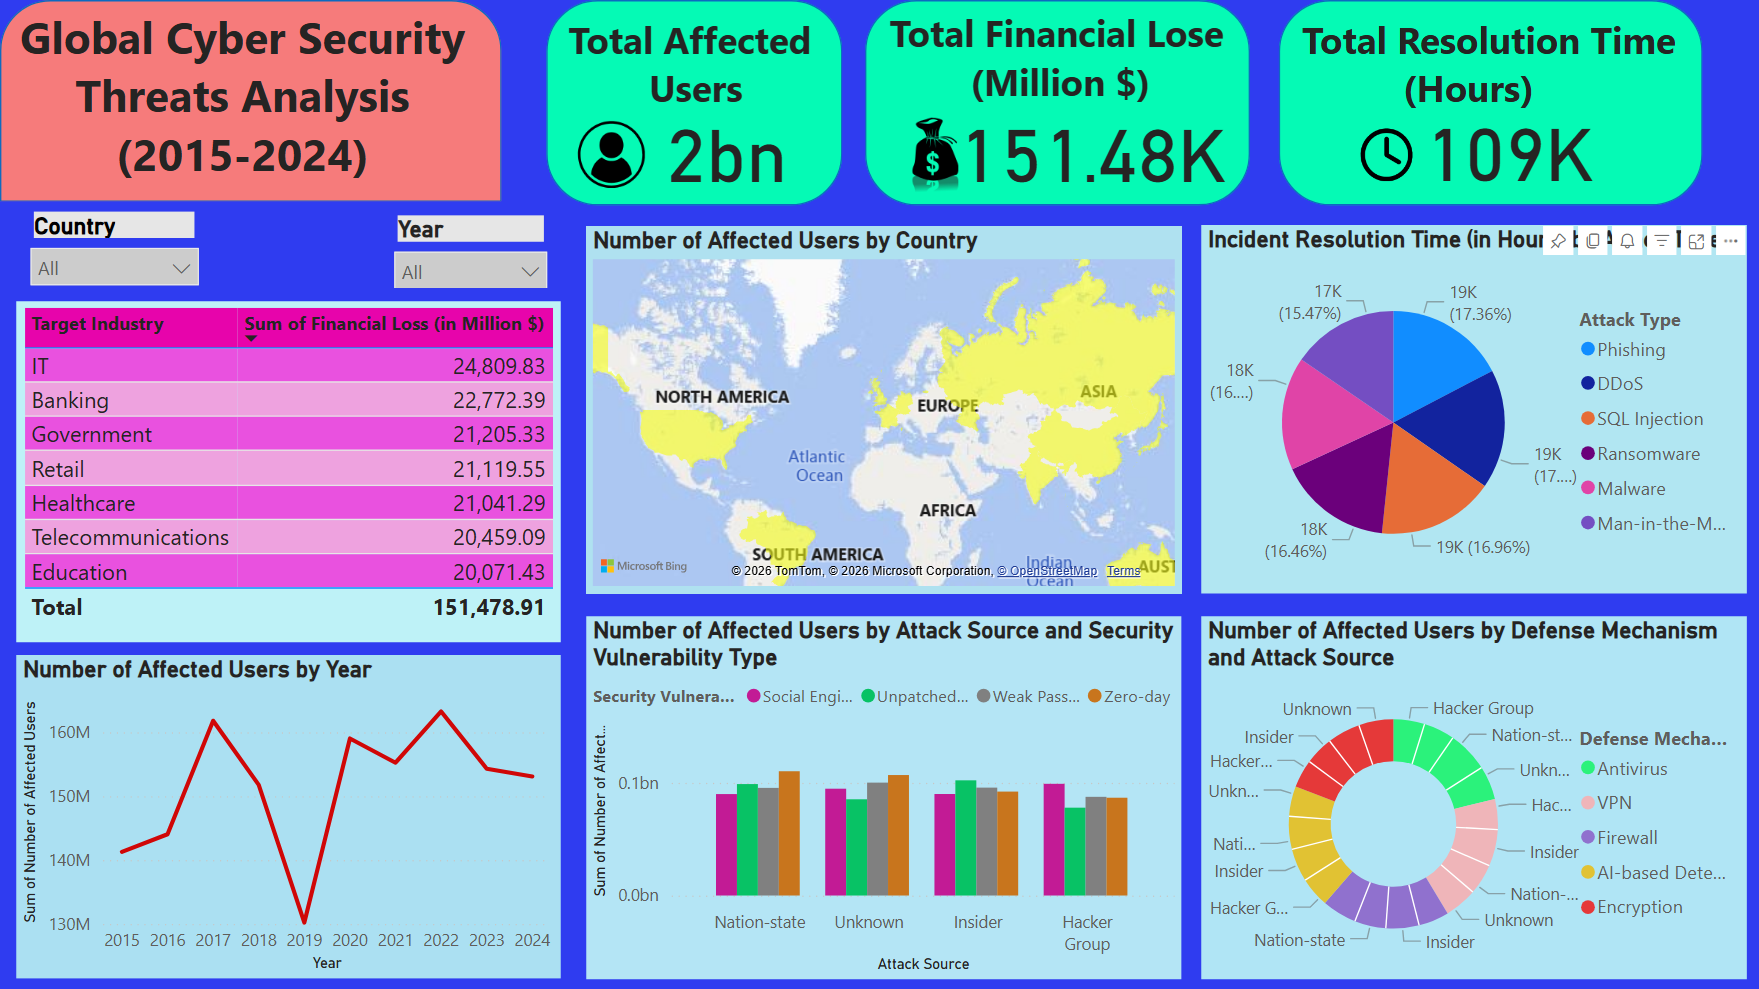

The dashboard page shown, as its layout file describes it:
{"tool":"powerbi","page":{"name":"Page 1","canvas":[1280,720],"ordinal":0},"visuals":[{"type":"shape","box":[0,0,364.8,146.7],"z":500},{"type":"shape","box":[930.3,0,308.3,149.4],"z":1000},{"type":"shape","box":[628.7,0,280,149.4],"z":2000},{"type":"shape","box":[397.1,0,215.4,149.4],"z":3000},{"type":"tableEx","fields":{"Values":["Global_Cybersecurity_Threats_2015-2024.Target Industry","Sum(Global_Cybersecurity_Threats_2015-2024.Financial Loss (in Million $))"]},"box":[12.1,219.4,395.8,247.7],"z":4000},{"type":"clusteredColumnChart","title":"Number of Affected Users by Attack Source and Security Vulnerability Type","fields":{"Category":["Global_Cybersecurity_Threats_2015-2024.Attack Source"],"Series":["Global_Cybersecurity_Threats_2015-2024.Security Vulnerability Type"],"Y":["Sum(Global_Cybersecurity_Threats_2015-2024.Number of Affected Users)"]},"box":[426.2,448.6,433.2,264.1],"z":5000},{"type":"pieChart","title":"Incident Resolution Time (in Hours) by Attack Type","fields":{"Y":["Sum(Global_Cybersecurity_Threats_2015-2024.Incident Resolution Time (in Hours))"],"Category":["Global_Cybersecurity_Threats_2015-2024.Attack Type"]},"box":[873.4,163.5,396.9,268.3],"z":6000},{"type":"donutChart","title":"Number of Affected Users by Defense Mechanism and Attack Source","fields":{"Category":["Global_Cybersecurity_Threats_2015-2024.Defense Mechanism Used"],"Series":["Global_Cybersecurity_Threats_2015-2024.Attack Source"],"Y":["Sum(Global_Cybersecurity_Threats_2015-2024.Number of Affected Users)"]},"box":[873.4,448.6,396.9,264.1],"z":7000},{"type":"filledMap","title":"Number of Affected Users by Country","fields":{"Category":["Global_Cybersecurity_Threats_2015-2024.Country"]},"box":[426.2,164.9,433.2,266.9],"z":8000},{"type":"cardVisual","fields":{"Data":["Sum(Global_Cybersecurity_Threats_2015-2024.Number of Affected Users)"]},"box":[467.1,41.7,206,133.3],"z":9000},{"type":"cardVisual","fields":{"Data":["Sum(Global_Cybersecurity_Threats_2015-2024.Financial Loss (in Million $))"]},"box":[679.9,41.7,239.6,134.6],"z":10000},{"type":"textbox","box":[0,0,352.7,140],"z":11000},{"type":"cardVisual","fields":{"Data":["Sum(Global_Cybersecurity_Threats_2015-2024.Incident Resolution Time (in Hours))"]},"box":[1018.7,41.9,234.8,132.8],"z":12000},{"type":"textbox","box":[407.9,5.4,195.2,80.8],"z":13000},{"type":"image","box":[407.9,80.8,72.7,63.3],"z":14000},{"type":"textbox","box":[642.2,1.3,278.7,80.8],"z":15000},{"type":"textbox","box":[941.8,5.6,296.2,85.2],"z":16000},{"type":"image","box":[648.9,79.4,61.9,67.3],"z":17000},{"type":"image","box":[982.4,82.4,51.7,60.1],"z":18000},{"type":"lineChart","title":"Number of Affected Users by Year","fields":{"Y":["Sum(Global_Cybersecurity_Threats_2015-2024.Number of Affected Users)"],"Category":["Global_Cybersecurity_Threats_2015-2024.Year"]},"box":[12.1,476.6,395.8,235.6],"z":19000},{"type":"slicer","fields":{"Values":["Global_Cybersecurity_Threats_2015-2024.Country"]},"box":[12.1,149.4,142.7,60.6],"z":20000},{"type":"slicer","fields":{"Values":["Global_Cybersecurity_Threats_2015-2024.Year"]},"box":[276,152.1,131.9,57.9],"z":20001}]}

Visuals, with their boxes in screenshot pixels (x1, y1, x2, y2), scaled from the page's 1280x720 canvas onto the 1759x989 screenshot:
shape: (0, 0, 501, 202)
shape: (1278, 0, 1702, 205)
shape: (864, 0, 1249, 205)
shape: (546, 0, 842, 205)
tableEx - Global_Cybersecurity_Threats_2015-2024.Target Industry x Sum(Global_Cybersecurity_Threats_2015-2024.Financial Loss (in Million $)): (17, 301, 561, 642)
"Number of Affected Users by Attack Source and Security Vulnerability Type" clusteredColumnChart: (586, 616, 1181, 979)
"Incident Resolution Time (in Hours) by Attack Type" pieChart: (1200, 225, 1746, 593)
"Number of Affected Users by Defense Mechanism and Attack Source" donutChart: (1200, 616, 1746, 979)
"Number of Affected Users by Country" filledMap: (586, 227, 1181, 593)
cardVisual - Sum(Global_Cybersecurity_Threats_2015-2024.Number of Affected Users): (642, 57, 925, 240)
cardVisual - Sum(Global_Cybersecurity_Threats_2015-2024.Financial Loss (in Million $)): (934, 57, 1264, 242)
textbox: (0, 0, 485, 192)
cardVisual - Sum(Global_Cybersecurity_Threats_2015-2024.Incident Resolution Time (in Hours)): (1400, 58, 1723, 240)
textbox: (561, 7, 829, 118)
image: (561, 111, 660, 198)
textbox: (883, 2, 1266, 113)
textbox: (1294, 8, 1701, 125)
image: (892, 109, 977, 202)
image: (1350, 113, 1421, 196)
"Number of Affected Users by Year" lineChart: (17, 655, 561, 978)
slicer - Global_Cybersecurity_Threats_2015-2024.Country: (17, 205, 213, 288)
slicer - Global_Cybersecurity_Threats_2015-2024.Year: (379, 209, 561, 288)
